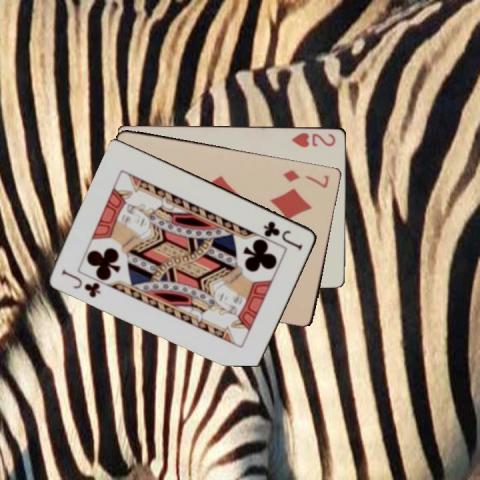2h: (289, 129, 337, 149)
7d: (280, 166, 330, 189)
Jc: (58, 266, 102, 300), (260, 218, 304, 250)
